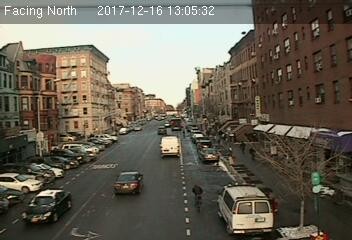bicycle: (191, 183, 203, 212)
car: (19, 189, 71, 221), (112, 170, 146, 195), (197, 148, 218, 162)
police: (218, 181, 273, 234)
truck: (160, 136, 181, 158)
